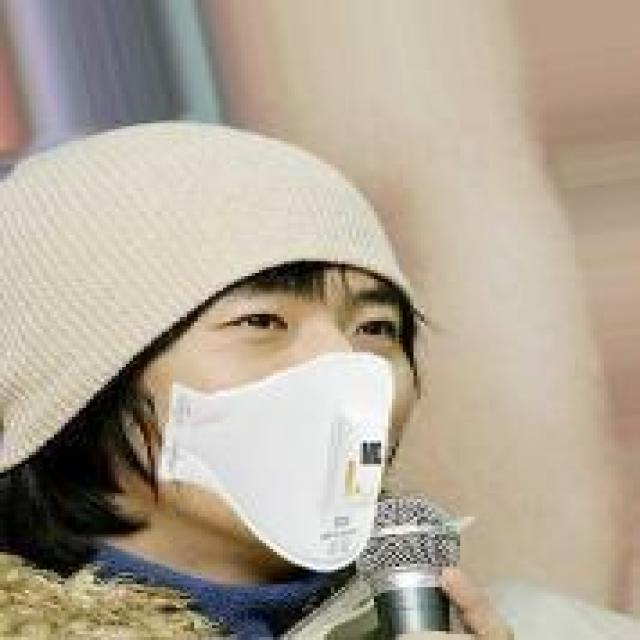mask: (61, 112, 439, 596)
